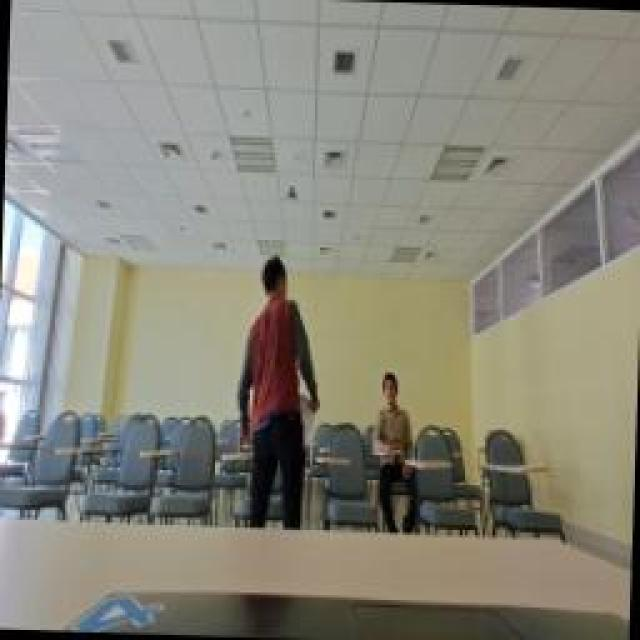study: (370, 370, 415, 455)
